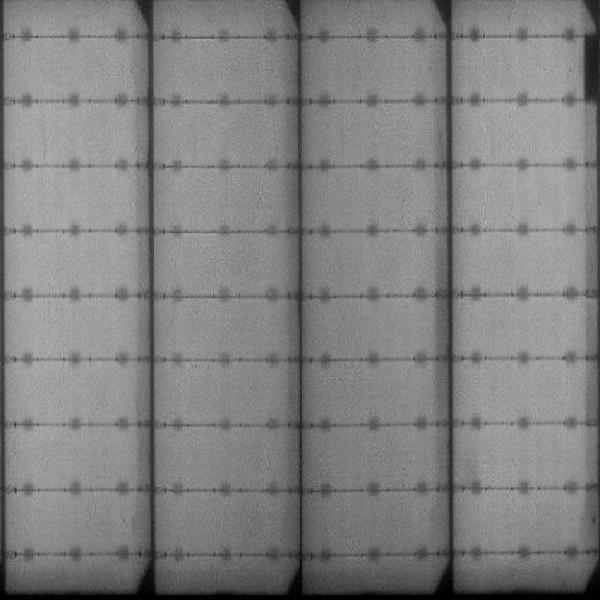black_border: (578, 30, 600, 107)
